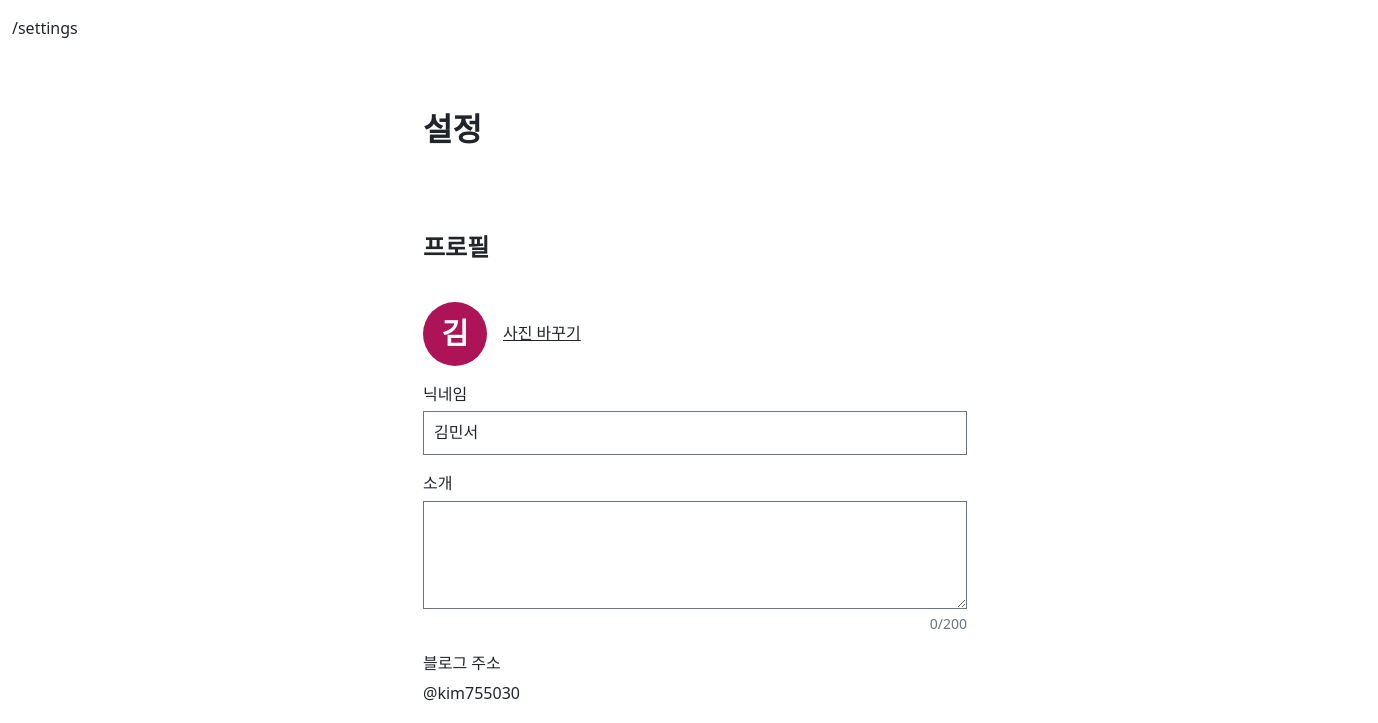
Test case: SettingsPage (FR-046~053) › 소개 글자 수는 코드 포인트로 센다
The image size is (1378, 723).
Type "😀가" into the text box labelled "소개".
click(695, 555); type("😀가")  # box [423, 501, 967, 609]
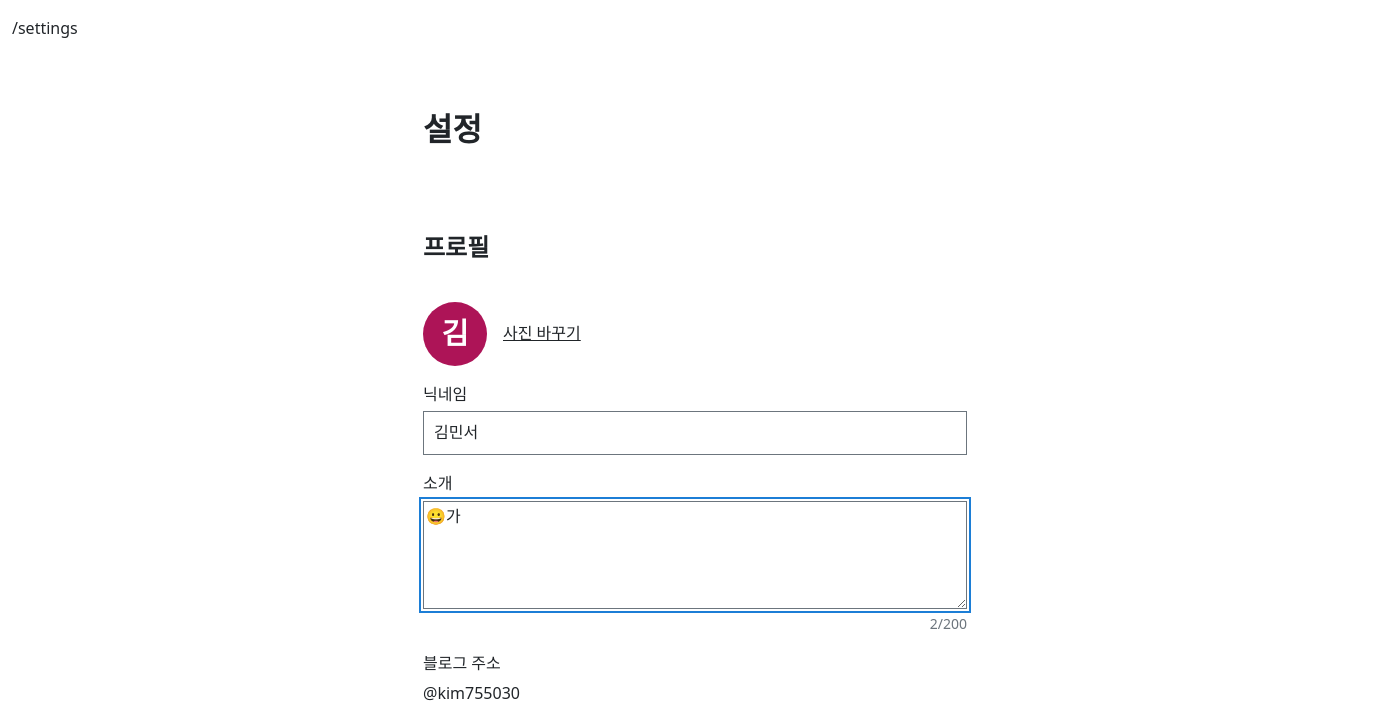
Now the text "2/200" is shown, box [930, 613, 967, 635]
